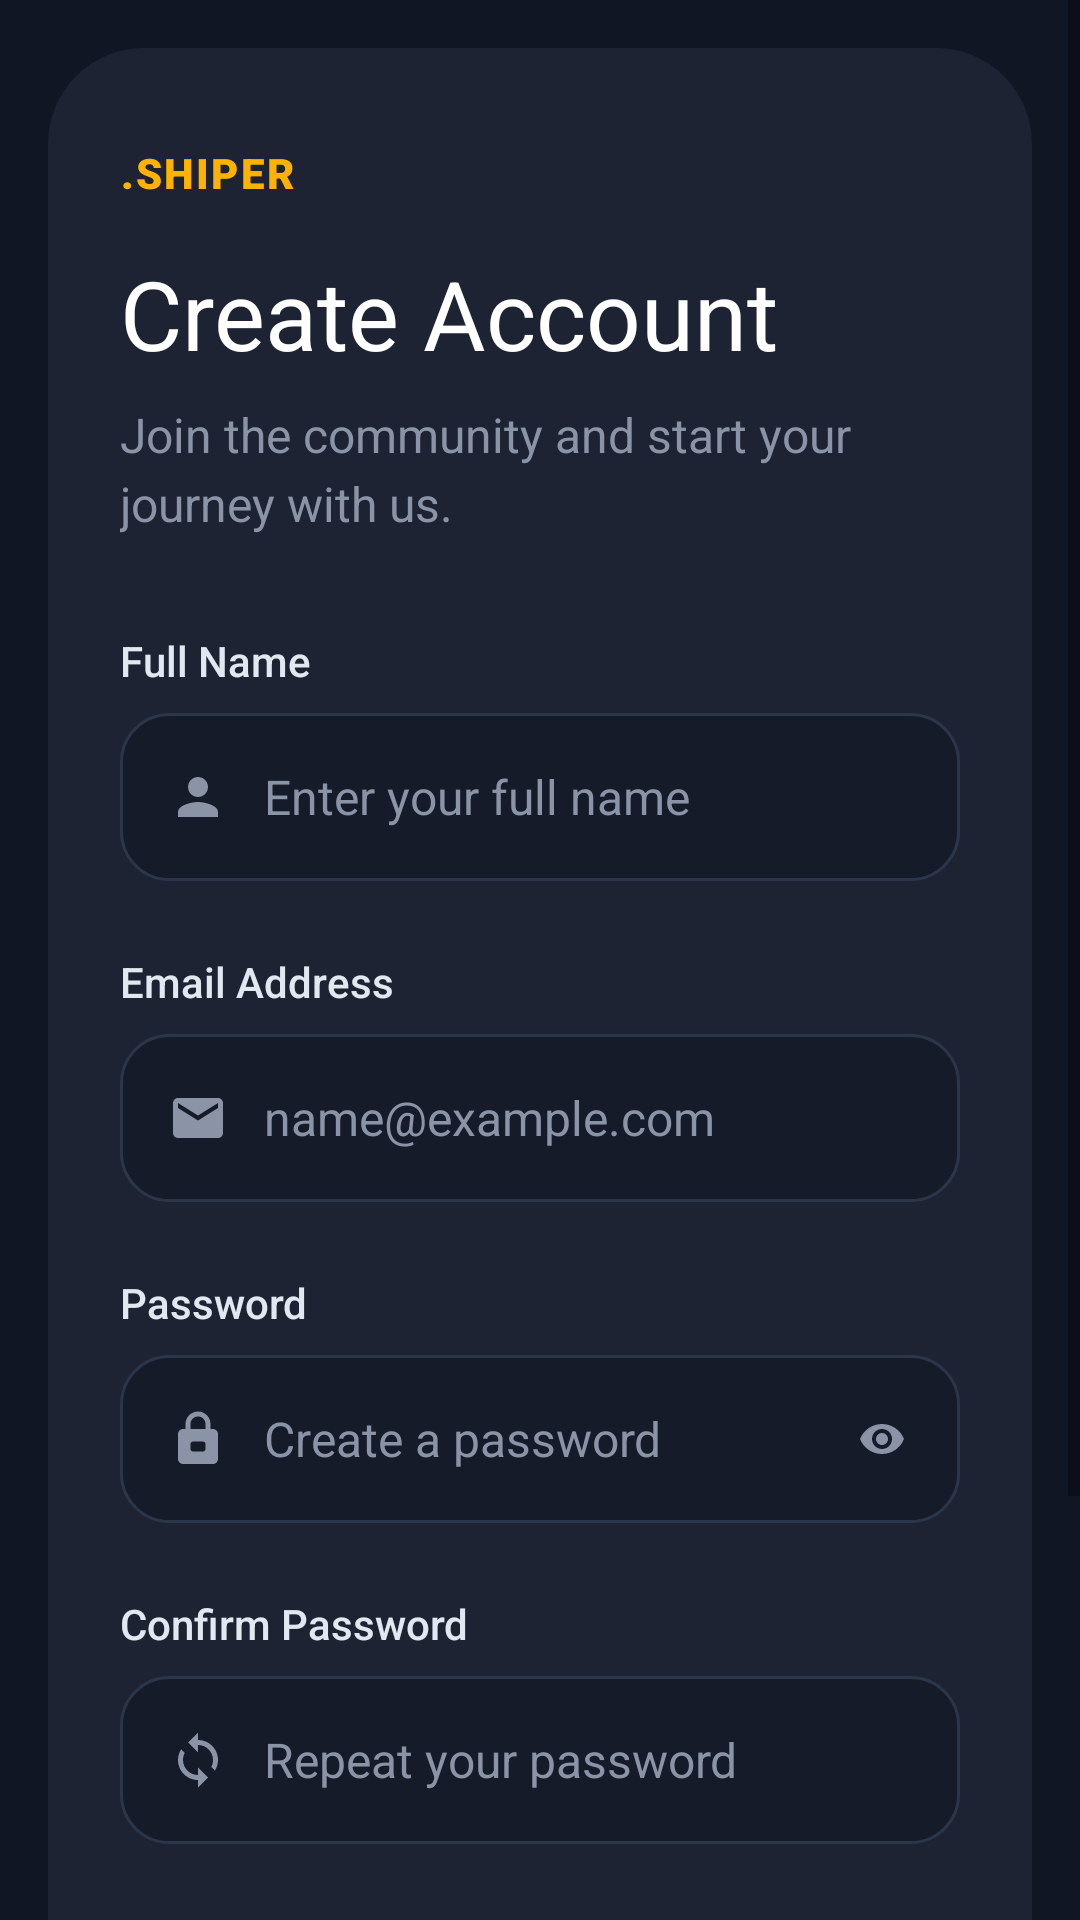

Screen size 1080px×1920px. Icon name, then its box in pixels as bbox=(x1, y1, x2, y2):
eye: bbox=(860, 1424, 904, 1454)
lock: bbox=(178, 1411, 218, 1464)
person: bbox=(178, 777, 218, 817)
